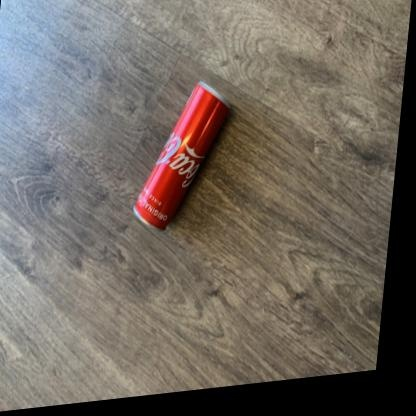trash: (133, 81, 229, 228)
